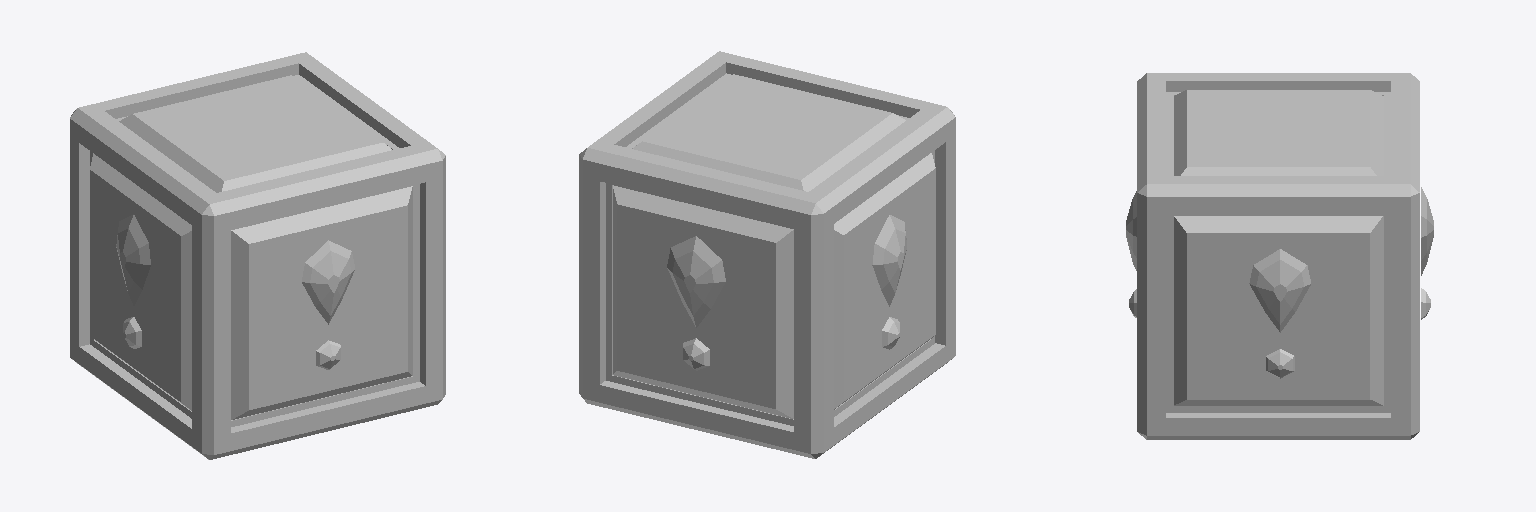
Rendered from red.obj.
The picture shows the model from 3 angles: view 1: azimuth 30°, elevation 25°; view 2: azimuth 150°, elevation 25°; view 3: azimuth 270°, elevation 25°; orthographic projection.
Visible parts, largest first — view 1: wing_cap_box_Circle.003; view 2: wing_cap_box_Circle.003; view 3: wing_cap_box_Circle.003.
Boxes of the visible parts, x1,y1,x2,y2 form: wing_cap_box_Circle.003: [70, 52, 445, 459]; wing_cap_box_Circle.003: [579, 51, 955, 458]; wing_cap_box_Circle.003: [1126, 73, 1433, 439].
Bounding box in the file's own units: 3.07 × 2.83 × 3.07.